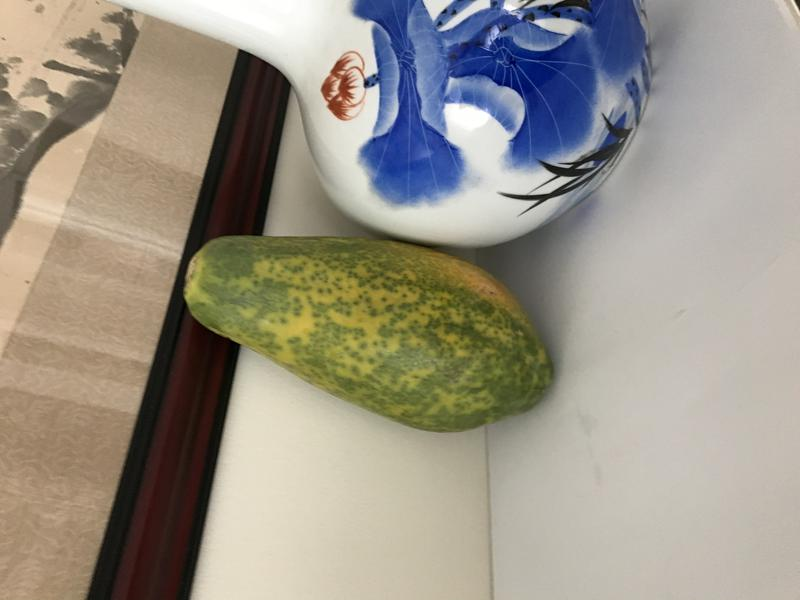papaya: (173, 228, 564, 438)
